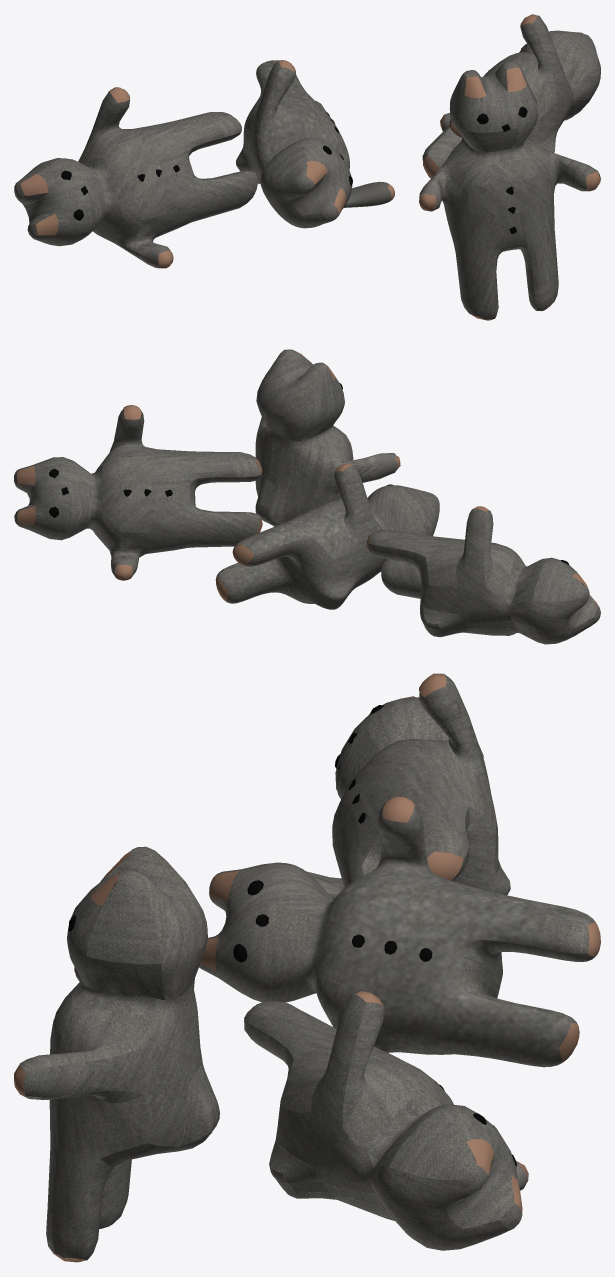
Rendered from peluches.glb.
3 renders of one model, top to bottom at view 1: azimuth 30°, elevation 25°; view 2: azimuth 150°, elevation 25°; view 3: azimuth 270°, elevation 25°, orthographic. The views are drawn at different scales.
Parts seen in each view (by area): view 1: ours; view 2: ours; view 3: ours.
Boxes of the visible parts, x1,y1,x2,y2 form: ours: (14,14,600,320); ours: (14,349,600,644); ours: (14,673,600,1262).
Bounding box in the file's own units: 1.72 × 0.663 × 0.9169.
3 materials, 1 textured.
